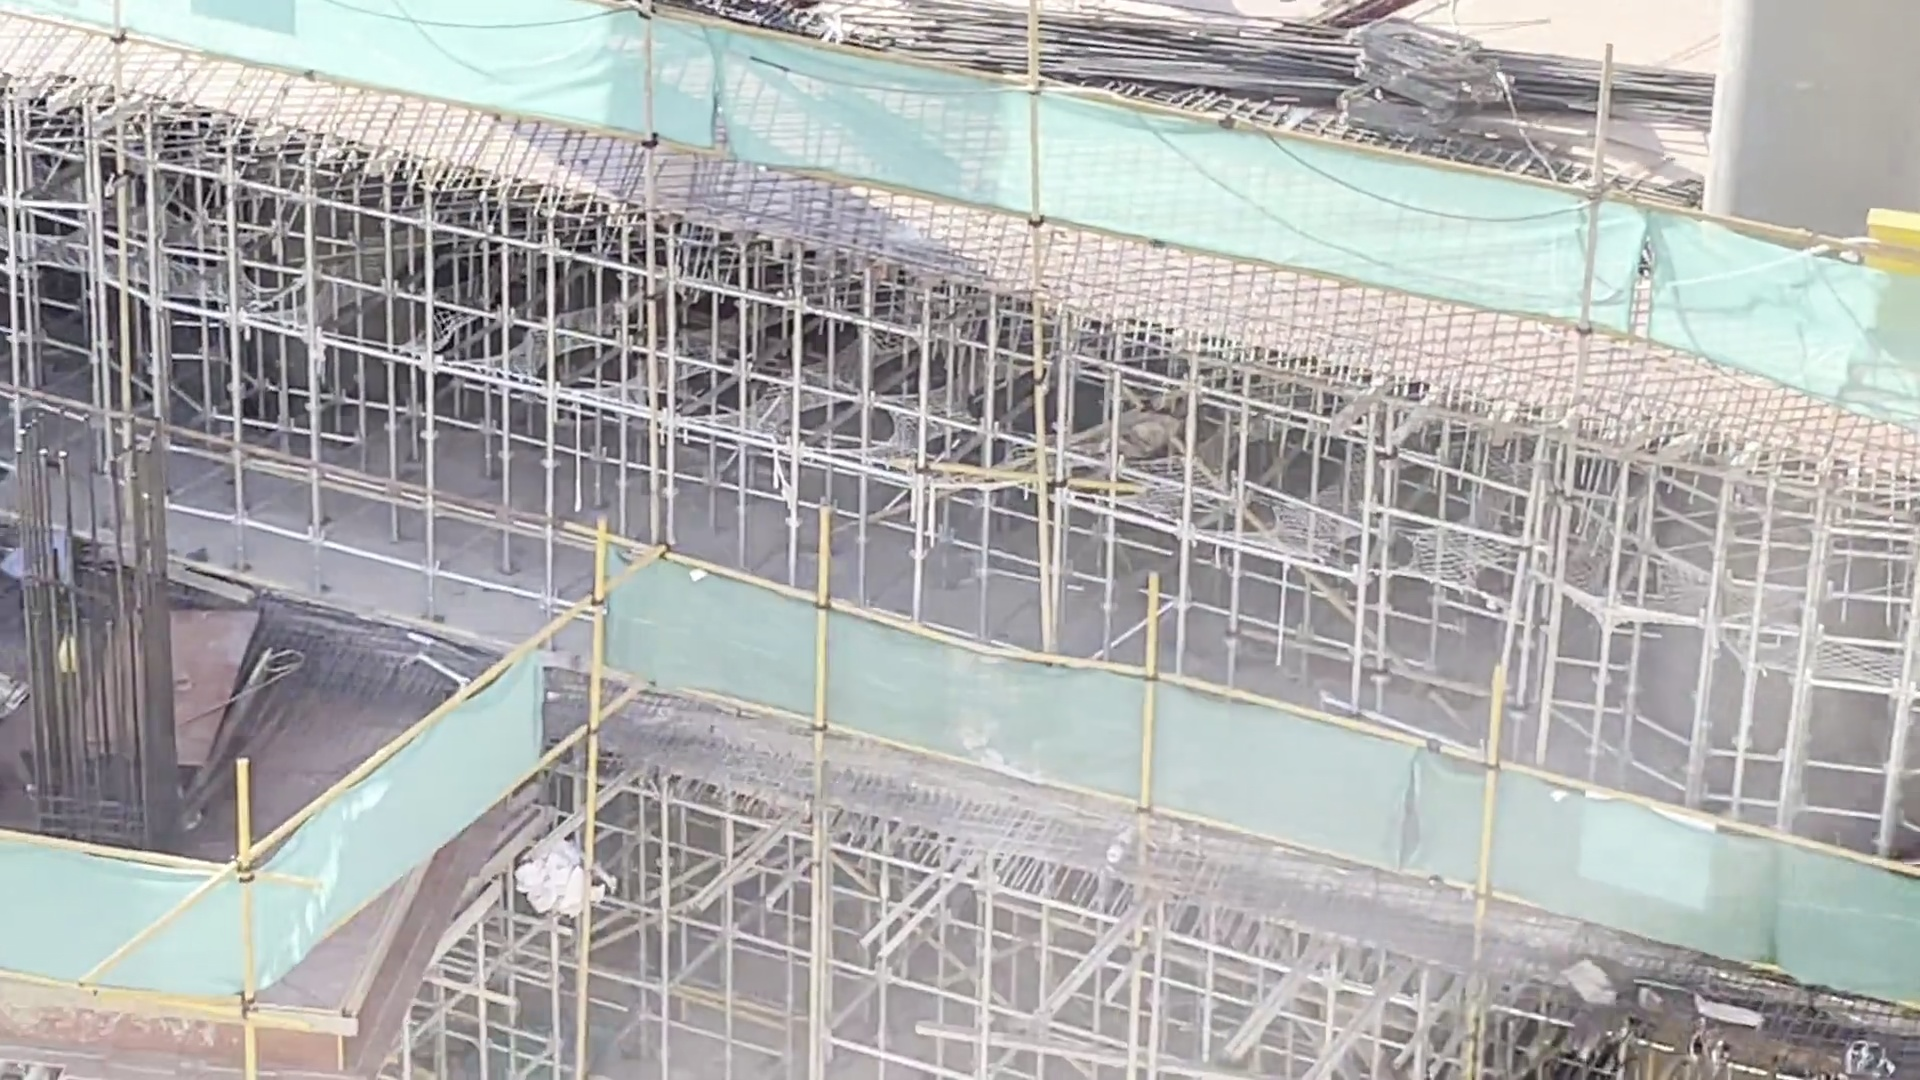ebox: (1867, 202, 1920, 294)
